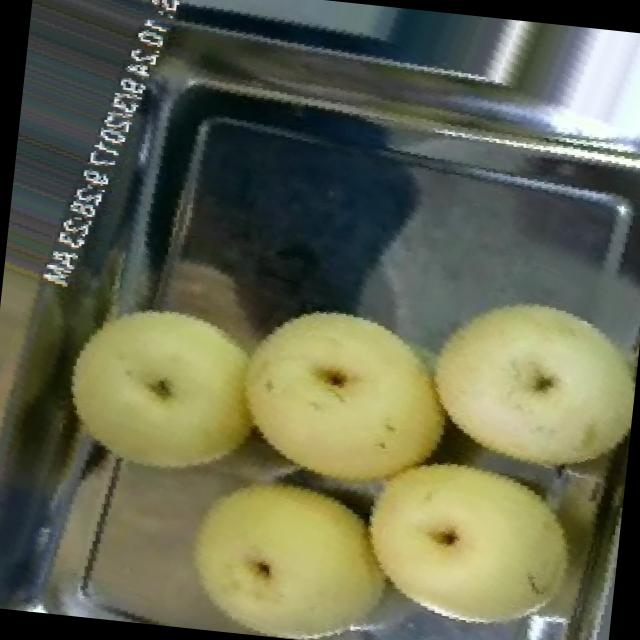Fruit: (65, 422, 425, 640), (211, 281, 476, 527), (31, 268, 290, 508), (329, 426, 600, 640), (410, 277, 640, 502)
